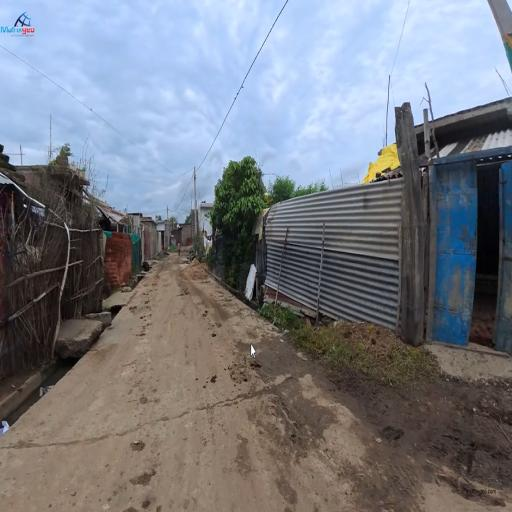longitudinal_crack: (29, 360, 308, 469)
